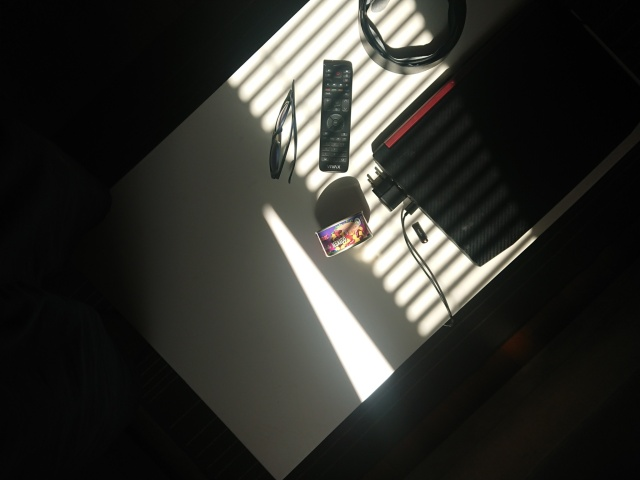Giana Tuna Salad Mexico 185g: (313, 207, 376, 261)
